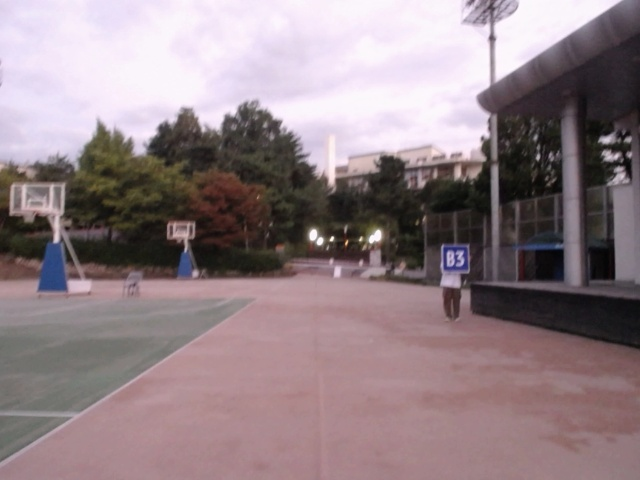delivery_b3: (441, 243, 470, 274)
